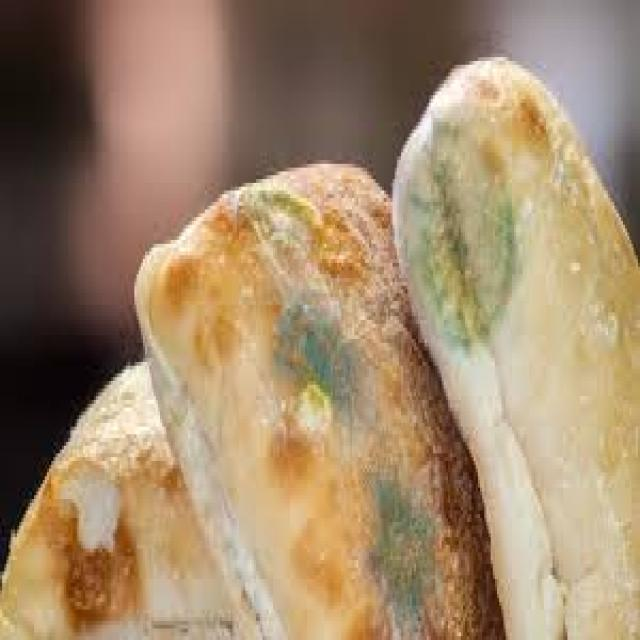biodegradable: (135, 156, 506, 636), (395, 65, 638, 636), (0, 358, 267, 636)
